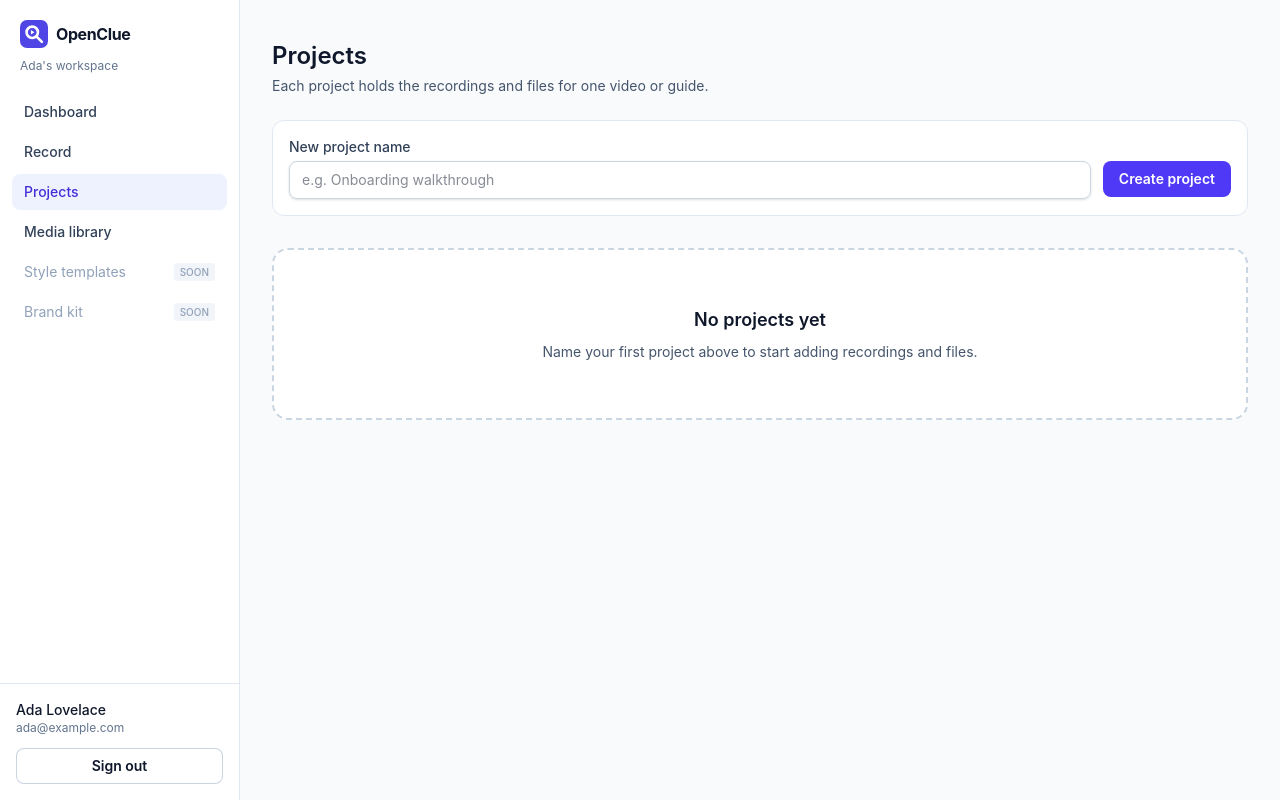
Test: Projects › creates a project and opens it
The image size is (1280, 800).
Expected: the heading "No projects yet" is shown, [694,306,826,334]
Click the button "Create project": (1167, 179) [1103,161,1231,197]
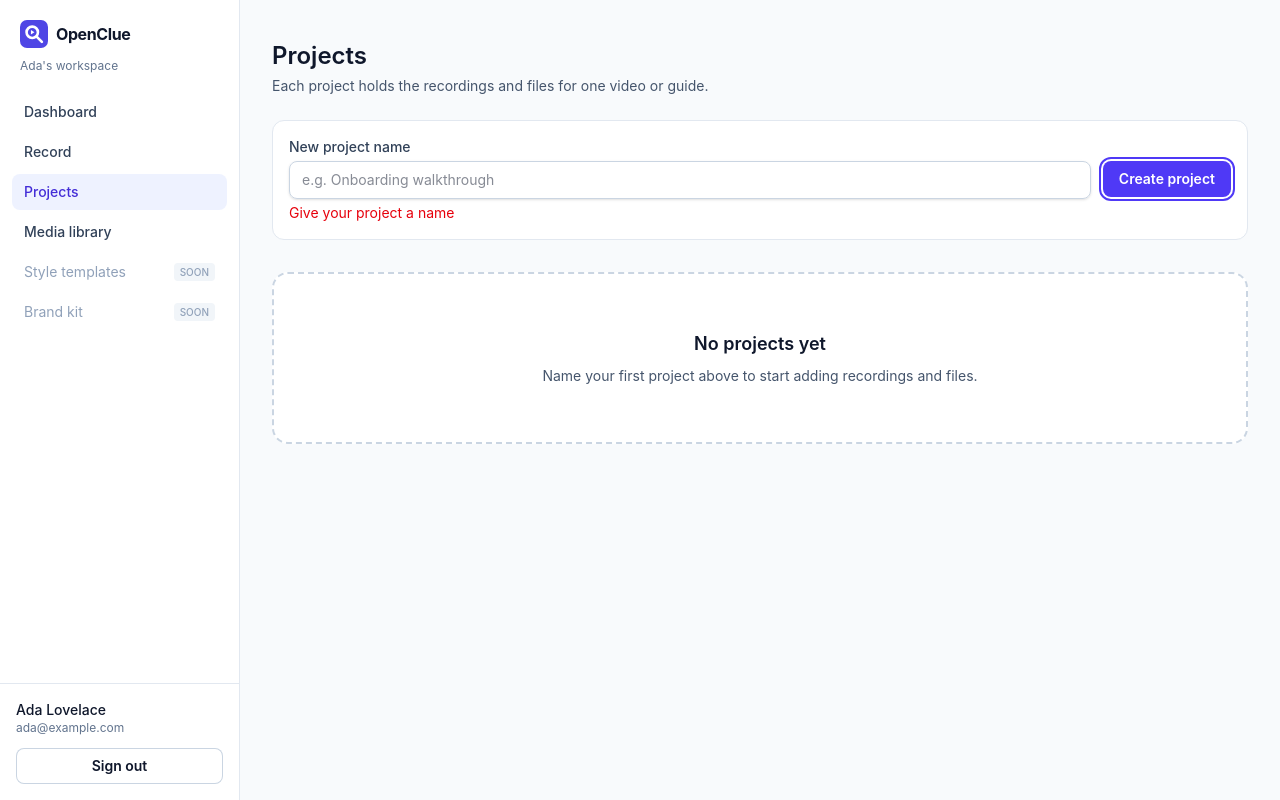
Now the text "Give your project a name" is shown, box [289,204,454,221]
In the field labelled "New project name": (690, 180) [289,161,1091,199], type "Onboarding tour"
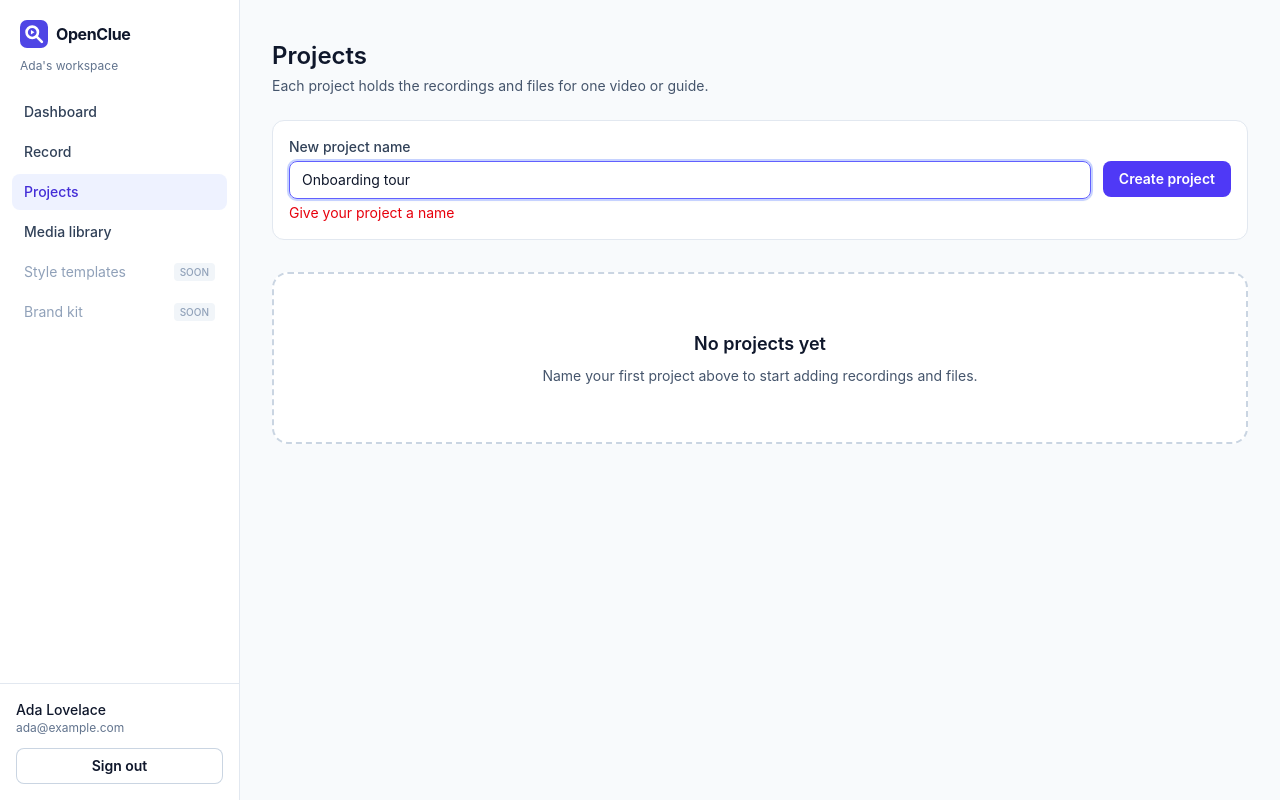
Click the button "Create project": (1167, 179) [1103,161,1231,197]
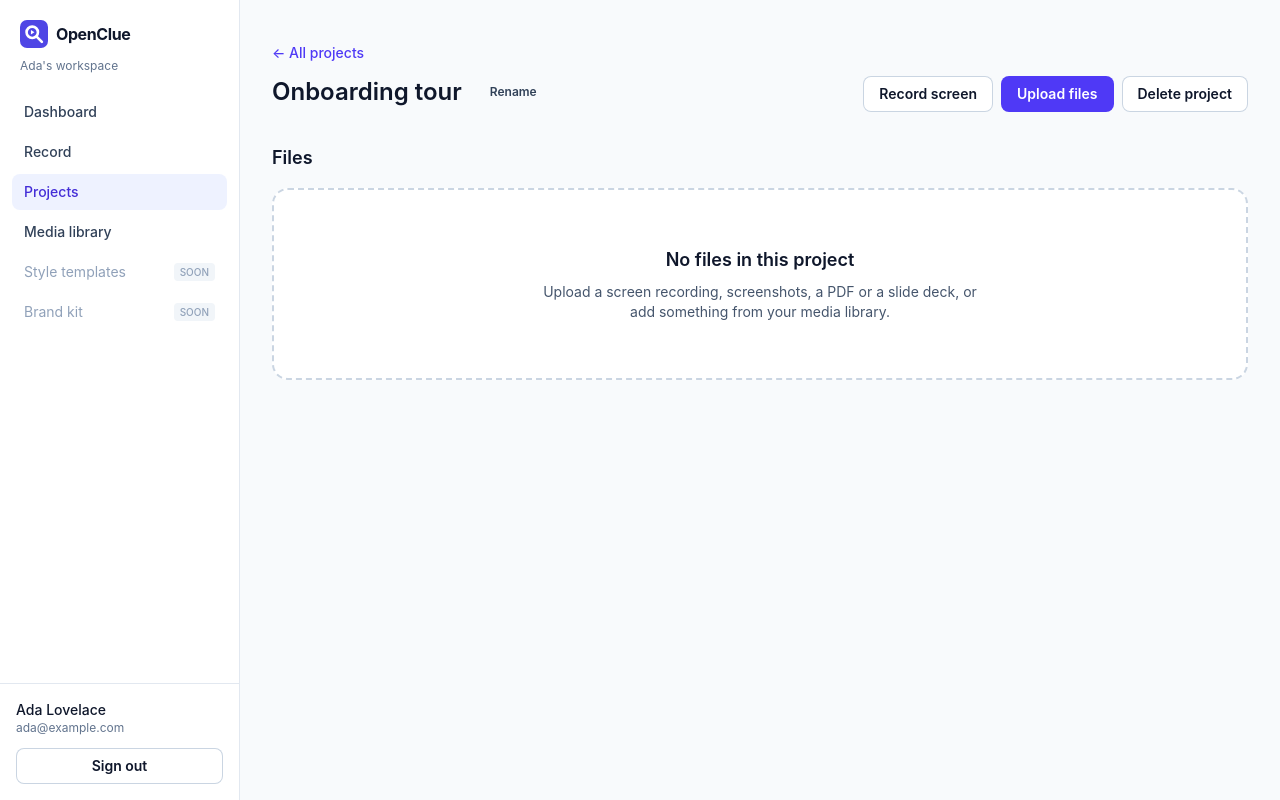
Now the heading "Onboarding tour" is shown, box [272,76,462,108]
Now the heading "No files in this project" is shown, box [666,246,854,274]
